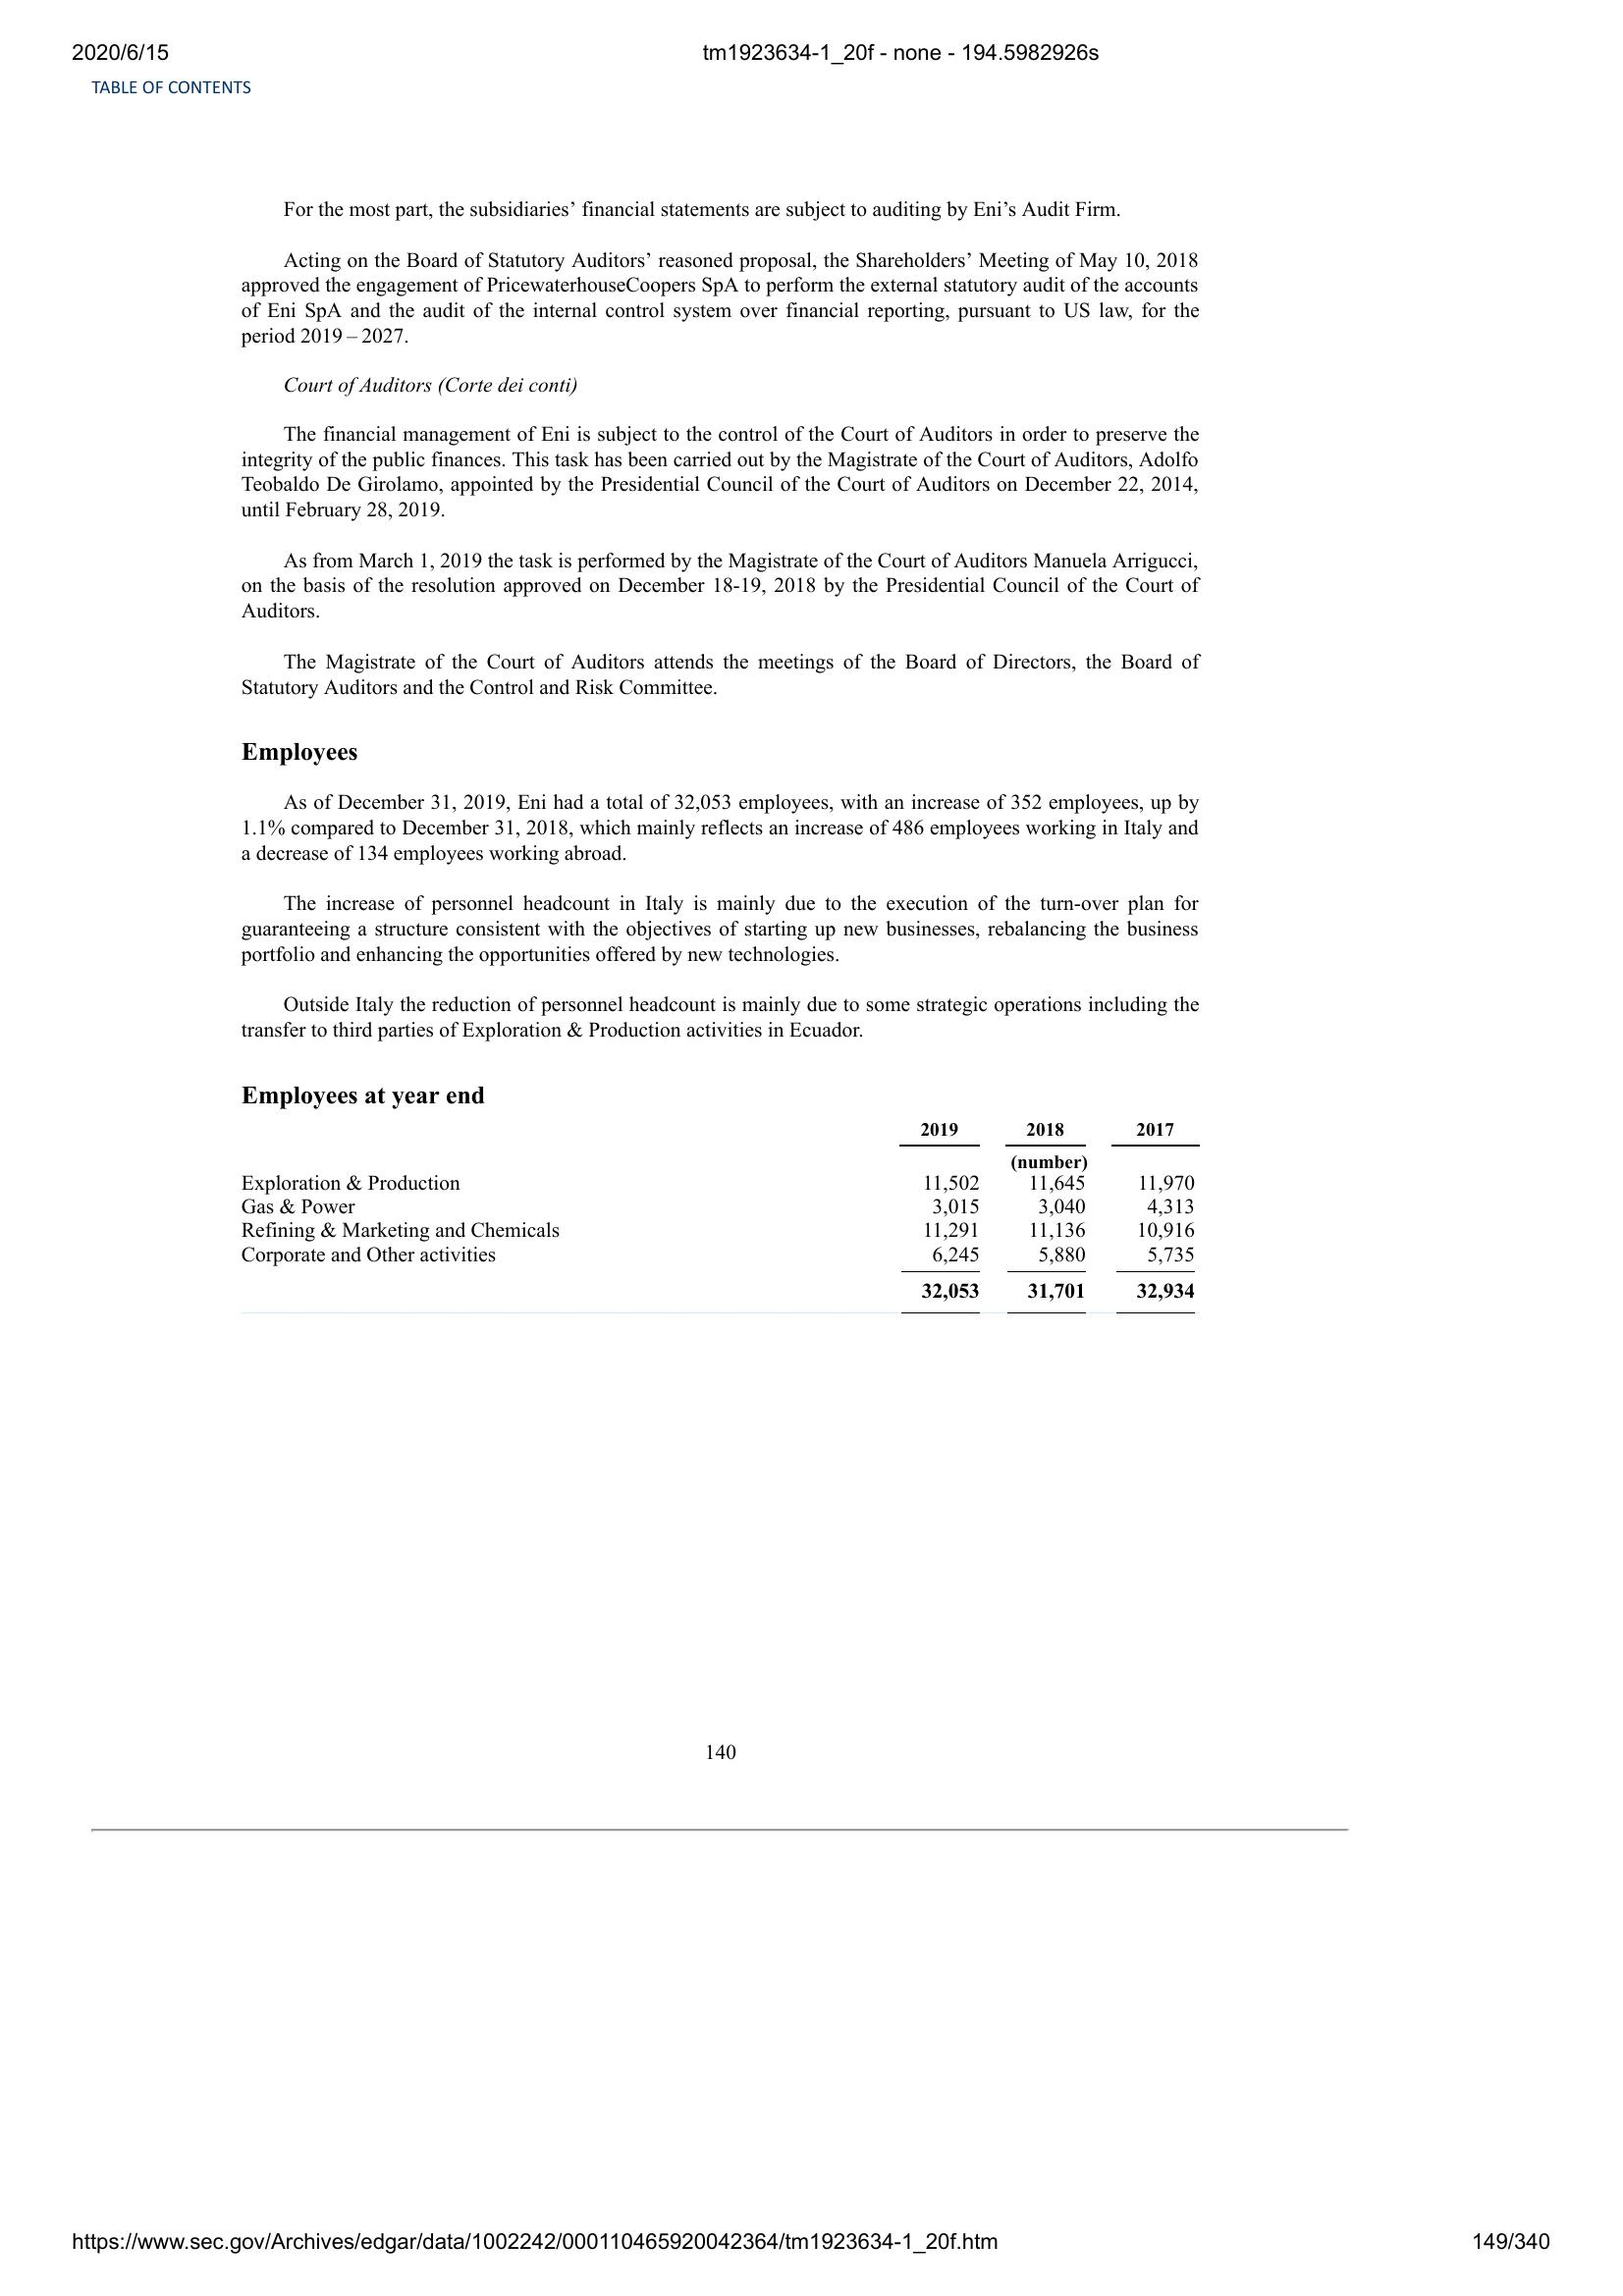table: (232, 1115, 1208, 1313)
